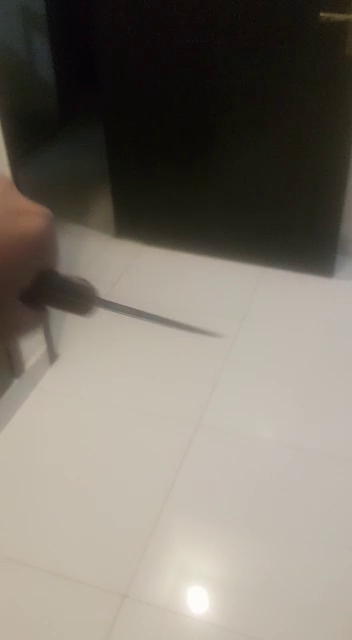knife: (1, 152, 284, 414)
